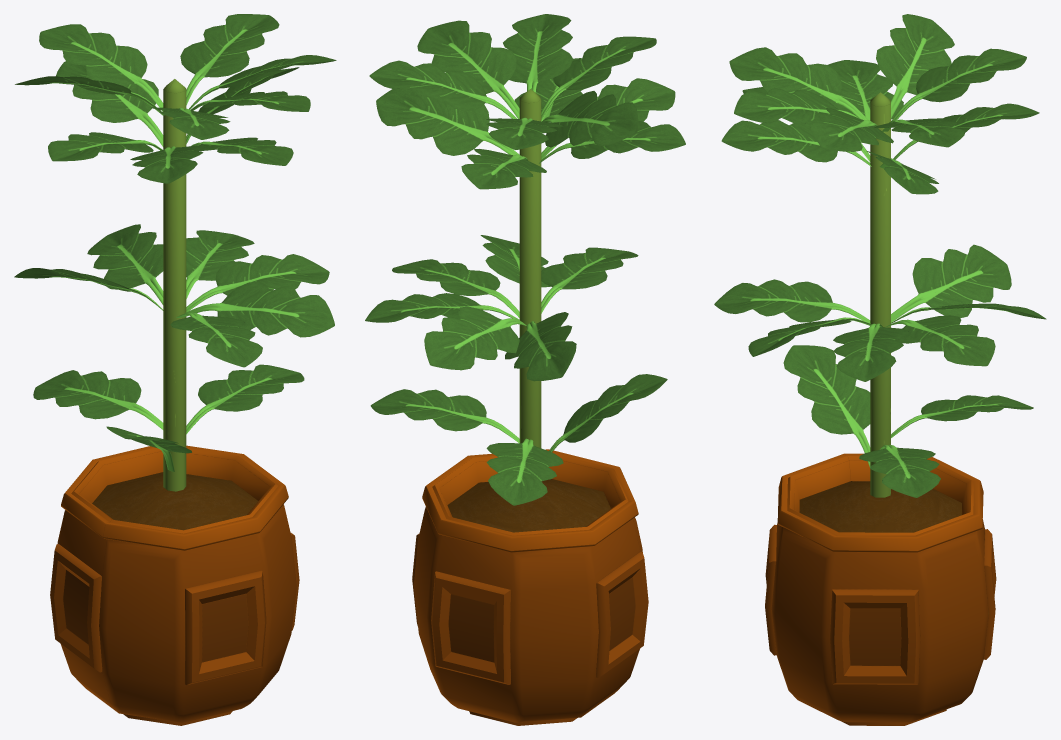
File: Plant.fbx
3 renders of one model, left to right at view 1: azimuth 30°, elevation 25°; view 2: azimuth 150°, elevation 25°; view 3: azimuth 270°, elevation 25°, orthographic.
Parts seen in each view (by area): view 1: Plant; view 2: Plant; view 3: Plant.
Part boxes in pixels (x1,y1,x2,y2): Plant: (14,14,336,725); Plant: (365,14,685,725); Plant: (714,14,1046,725).
Size of the model in its own units: 71.89 by 150 by 70.35.
